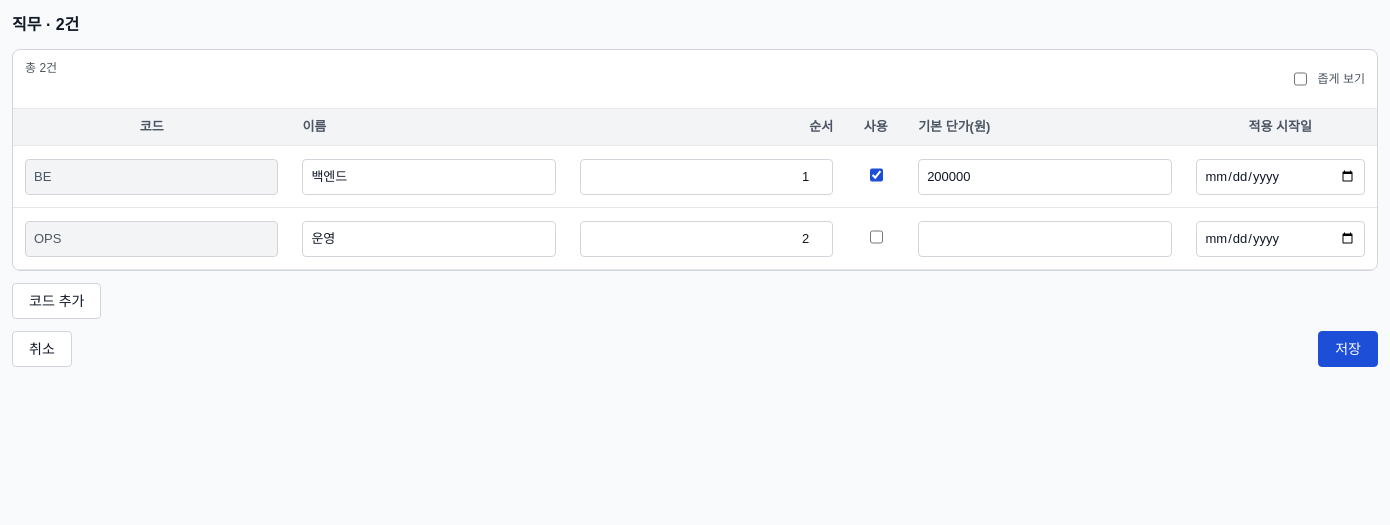
Test: UI-27 code contract › preserves draft and maps singular server row field on rejected save
Replace the text in the field named "이름 1" with "수정" at {"x": 429, "y": 176}, box [302,158,556,194]
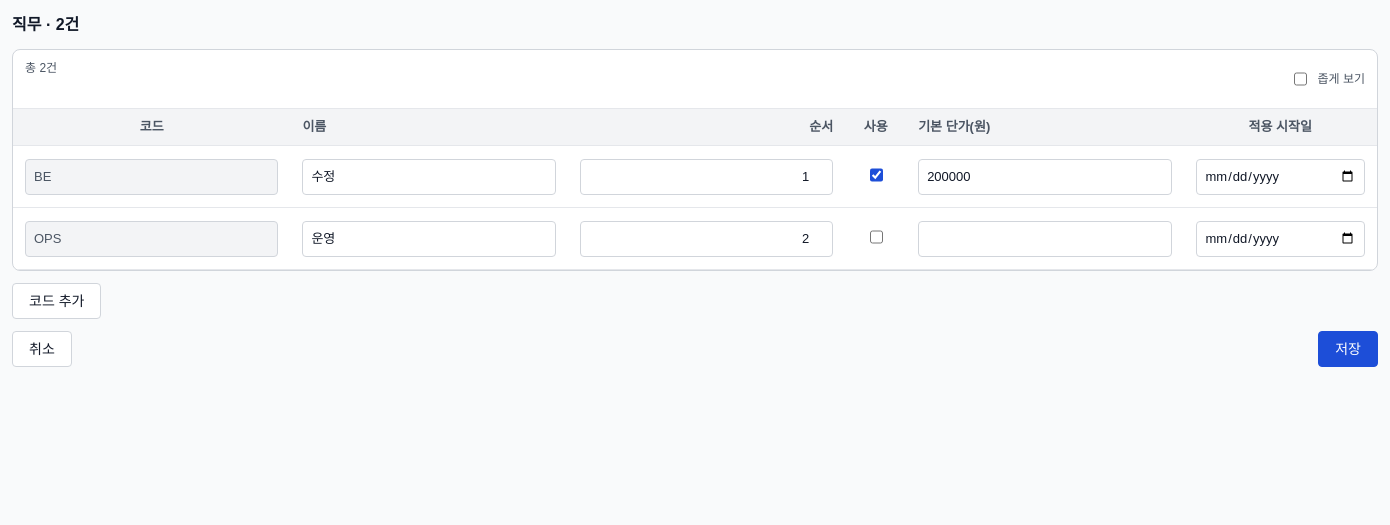
Click the button "저장".
click(1348, 349)  # box [1318,331,1378,367]
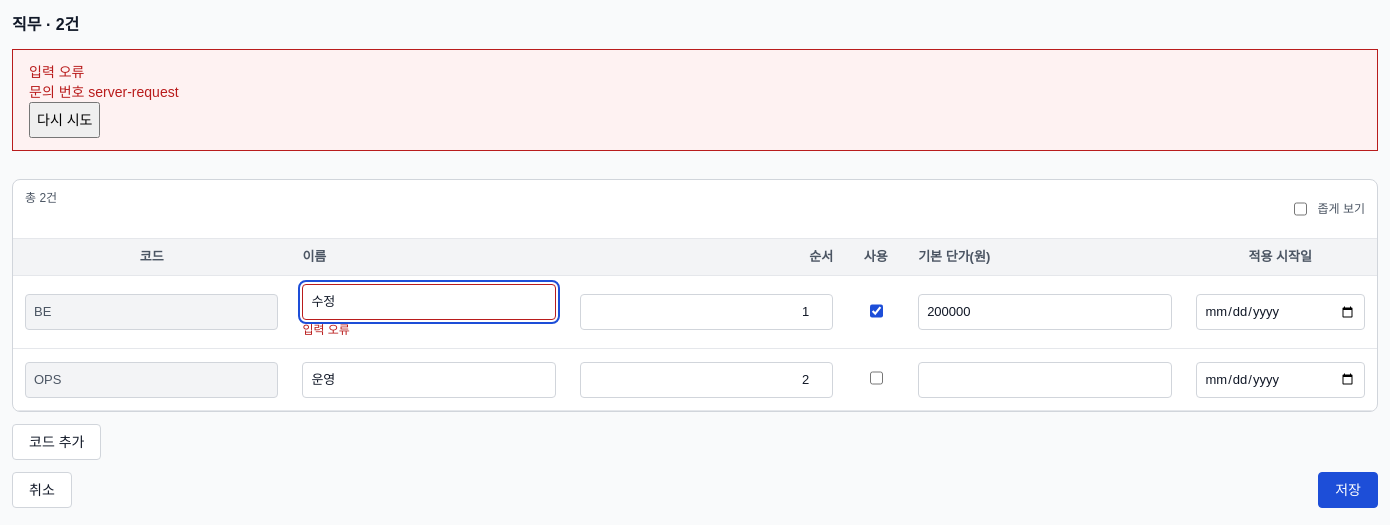
Check: the text "입력 오류" is shown, box [302,323,350,337]
Check: the text "문의 번호 server-request" is shown, box [29,84,179,100]
